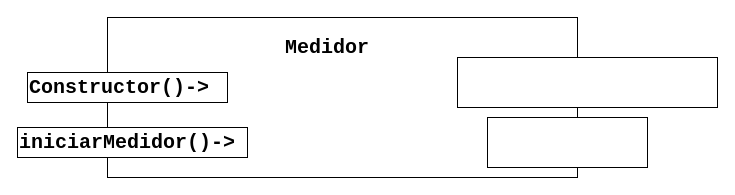
Image size: 735x195. Some labels were removed from this diagram. The box of each missing label's shape, as (x1, y1, x2, y2) in pixels:
->medirC02() ->Z: (486, 116, 648, 168)
->medirTemperatura() ->Z: (456, 56, 718, 108)
